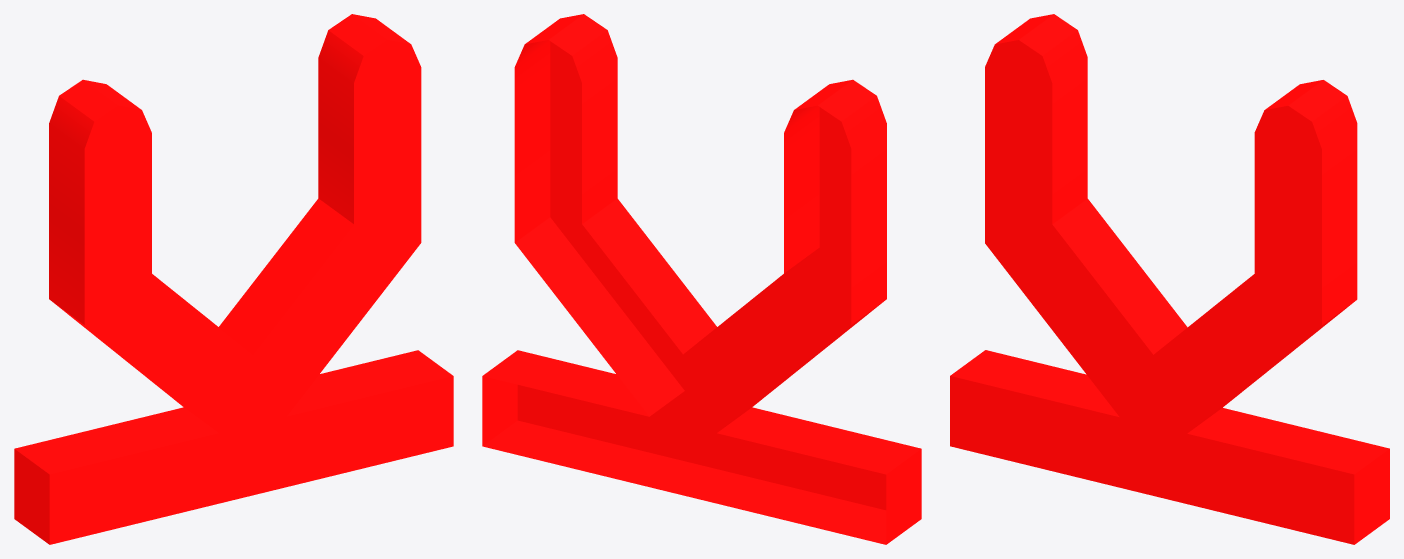
Rendered from V_Red.glb.
3 renders of one model, left to right at view 1: azimuth 30°, elevation 25°; view 2: azimuth 150°, elevation 25°; view 3: azimuth 330°, elevation 25°, orthographic.
Visible parts, largest first — view 1: V_R; view 2: V_R; view 3: V_R.
Part boxes in pixels (x1=…): V_R: x1=14, y1=14, x2=453, y2=544; V_R: x1=482, y1=14, x2=921, y2=544; V_R: x1=950, y1=14, x2=1389, y2=544.
Size of the model in its own units: 0.4999 by 0.4998 by 0.0759.
1 material, 1 textured.
